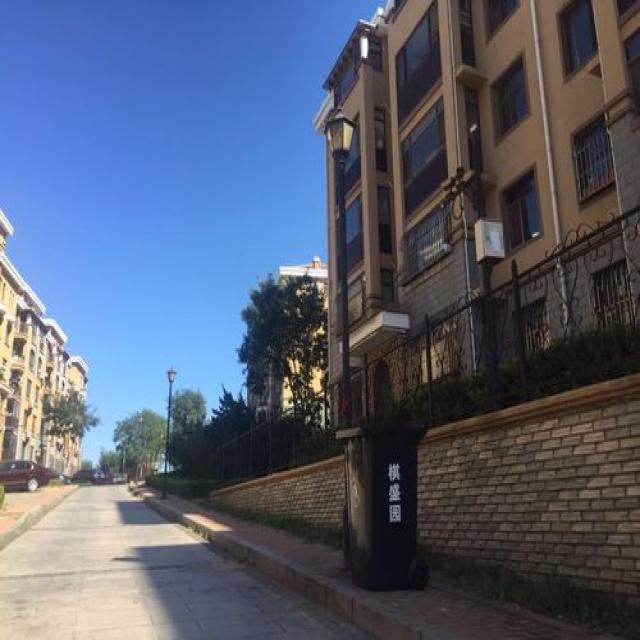garbage_bin: (332, 422, 423, 590)
